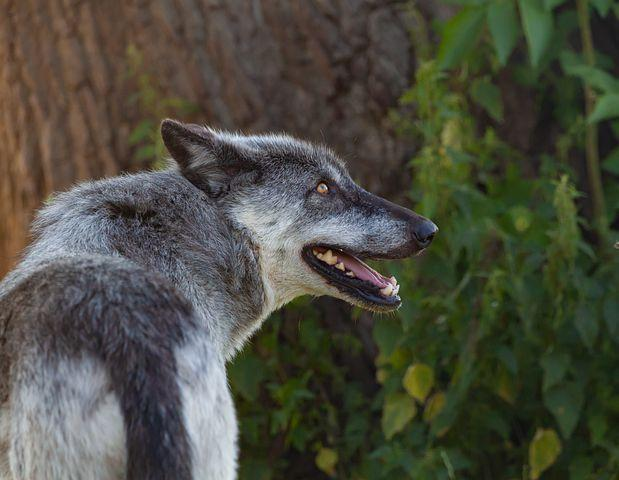Wolf: (3, 115, 441, 480)
